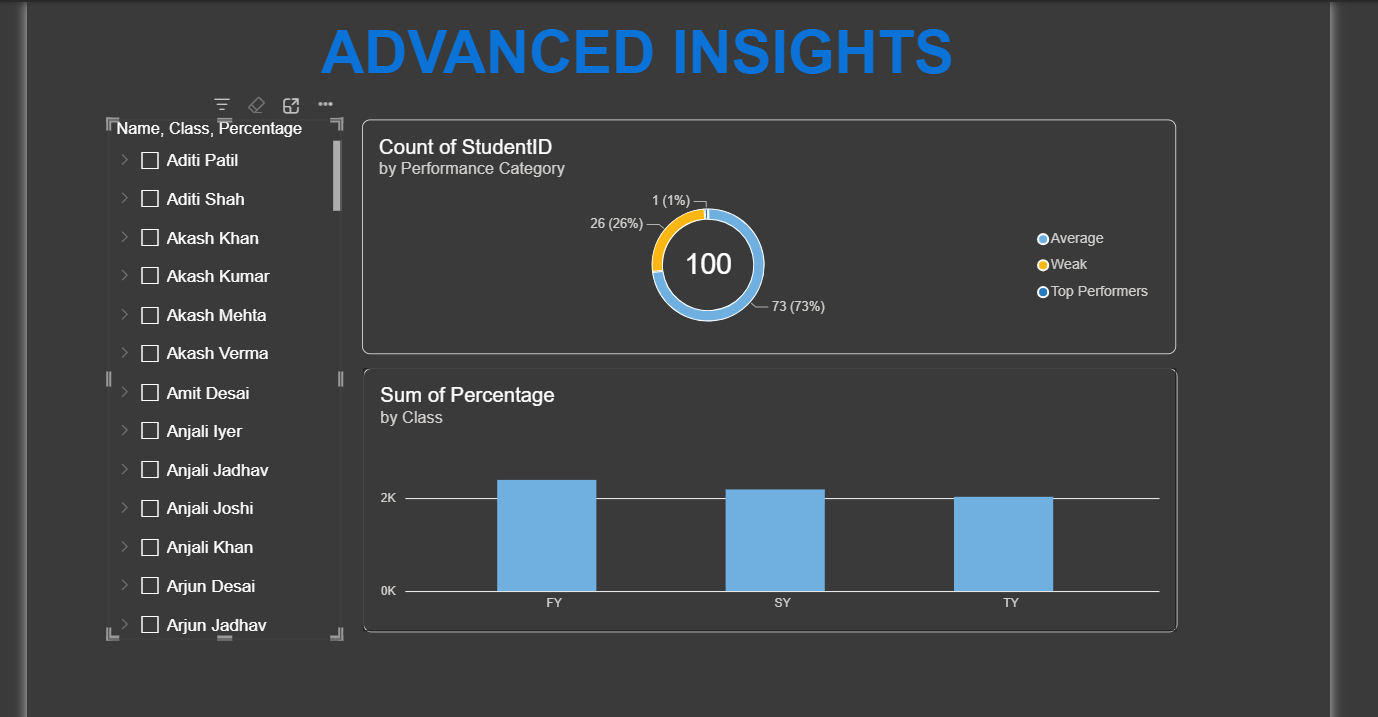

The dashboard page shown, as its layout file describes it:
{"tool":"powerbi","page":{"name":"Page 5","canvas":[1280,720],"ordinal":4},"visuals":[{"type":"textbox","box":[66.7,15.6,1082.2,82.2],"z":0},{"type":"donutChart","fields":{"Category":["Students.Performance Category"],"Y":["CountNonNull(Students.StudentID)"]},"box":[328.9,115.6,798.9,230],"z":2000},{"type":"clusteredColumnChart","fields":{"Category":["Students.Class"],"Y":["Sum(Students.Percentage)"]},"box":[330,360,798.9,258.9],"z":3000},{"type":"slicer","fields":{"Values":["Students.Name","Students.Class","Students.Percentage"]},"box":[80,115.6,228.9,510],"z":4000}]}

Visuals, with their boxes on the page's 1280x720 design canvas (x1, y1, x2, y2). These are canvas units, not pixel positions in the 1378x717 screenshot, which may show the page scaled, cropped or inside an application window:
textbox: region(67, 16, 1149, 98)
donutChart - Students.Performance Category x CountNonNull(Students.StudentID): region(329, 116, 1128, 346)
clusteredColumnChart - Students.Class x Sum(Students.Percentage): region(330, 360, 1129, 619)
slicer - Students.Name x Students.Class: region(80, 116, 309, 626)
